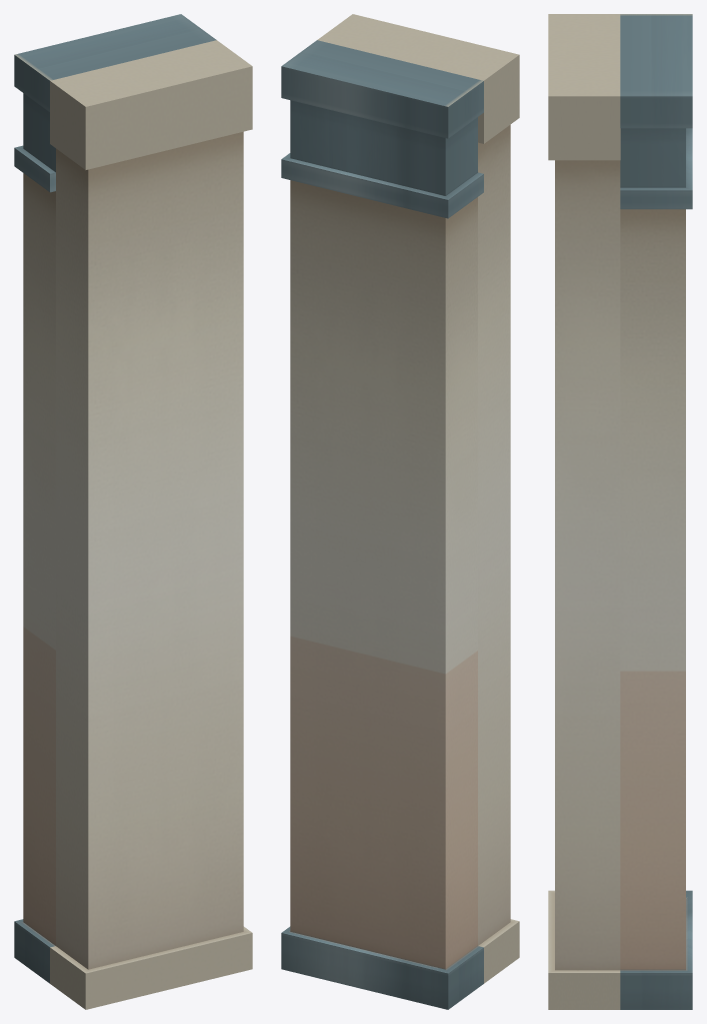
The model's file is set_pillar_01_03.fbx.
The picture shows the model from 3 angles, left to right: view 1: azimuth 30°, elevation 25°; view 2: azimuth 150°, elevation 25°; view 3: azimuth 270°, elevation 25°; orthographic projection.
Visible parts, largest first — view 1: set_pillar_01_03; view 2: set_pillar_01_03; view 3: set_pillar_01_03.
Part boxes in pixels (x1,y1,x2,y2): set_pillar_01_03: (14, 14, 252, 1009); set_pillar_01_03: (281, 14, 519, 1009); set_pillar_01_03: (548, 14, 692, 1009).
Size of the model in its own units: 58 by 300 by 43.
